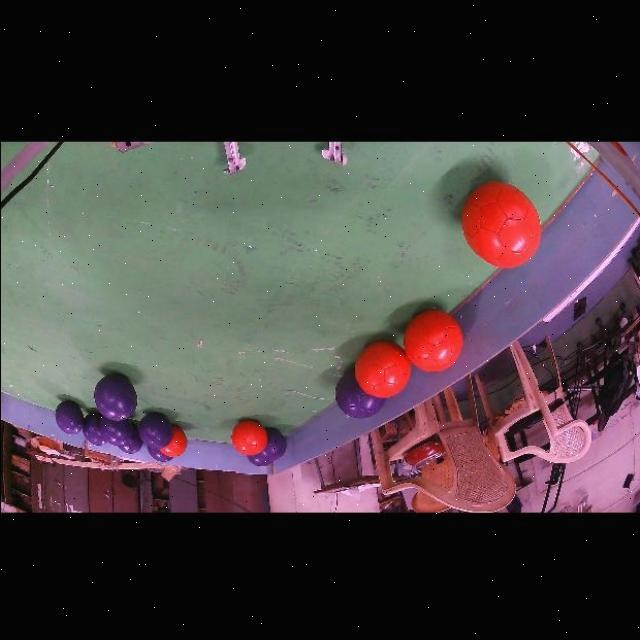P: (334, 370, 385, 417), (93, 372, 137, 419), (247, 426, 285, 465), (137, 411, 172, 448), (54, 399, 83, 434), (98, 415, 132, 444), (82, 411, 105, 444), (118, 422, 142, 452), (146, 445, 172, 461)
R: (461, 181, 540, 266), (403, 308, 462, 370), (354, 340, 411, 397), (230, 419, 266, 455), (159, 424, 186, 456)
